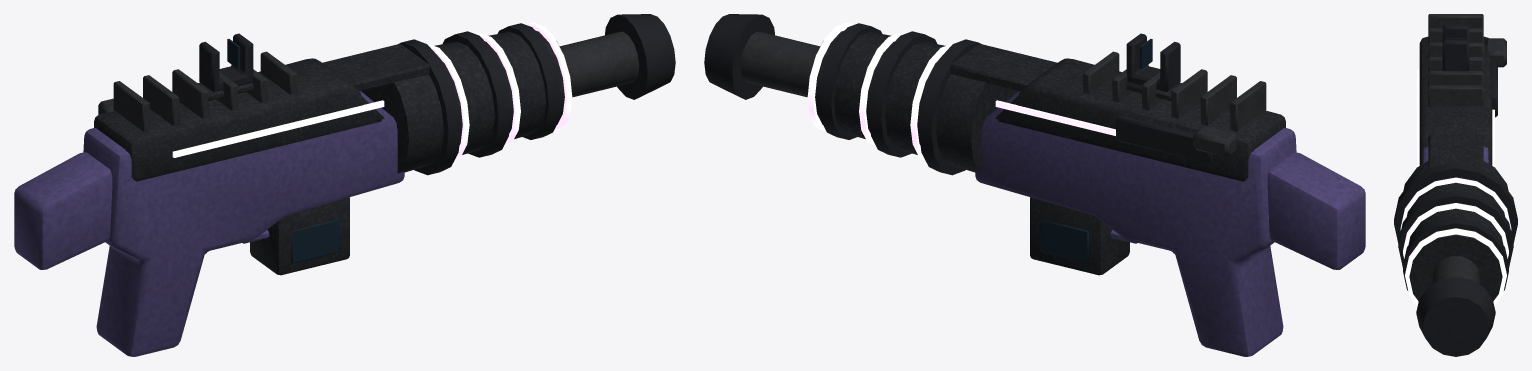
The model's file is blaster_r3.fbx.
3 views of the same model, side by side, from view 1: azimuth 30°, elevation 25°; view 2: azimuth 150°, elevation 25°; view 3: azimuth 270°, elevation 25° (orthographic). The views are drawn at different scales.
Visible parts, largest first — view 1: Body, Magazine, Glow; view 2: Body, Magazine, Glow, Bolt; view 3: Body, Glow, Bolt.
Boxes of the visible parts, x1=… form: Body: x1=14, y1=14, x2=675, y2=356; Magazine: x1=250, y1=197, x2=349, y2=275; Glow: x1=172, y1=22, x2=572, y2=159; Body: x1=704, y1=14, x2=1365, y2=356; Magazine: x1=1030, y1=197, x2=1129, y2=275; Glow: x1=807, y1=22, x2=1115, y2=159; Bolt: x1=1116, y1=115, x2=1237, y2=162; Body: x1=1394, y1=14, x2=1517, y2=356; Glow: x1=1400, y1=70, x2=1511, y2=305; Bolt: x1=1485, y1=38, x2=1506, y2=117.
Size of the model in its own units: 6 by 2.52 by 1.12.
Materials: 2 (1 with a texture image).
